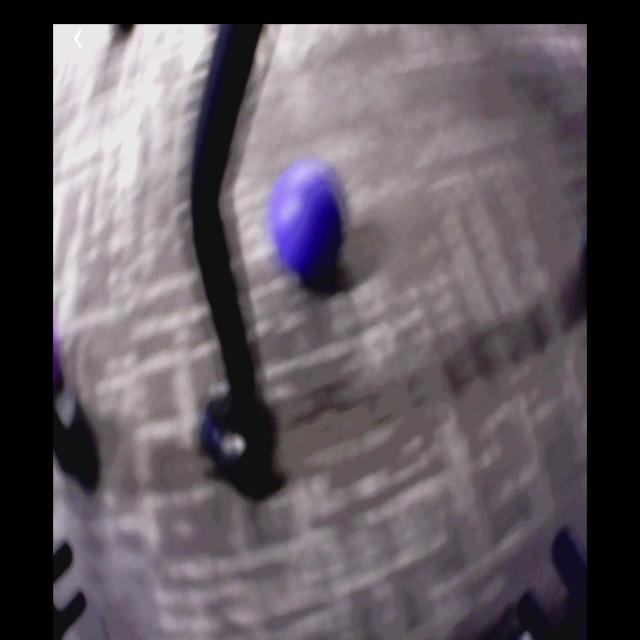ball: (270, 161, 345, 283)
